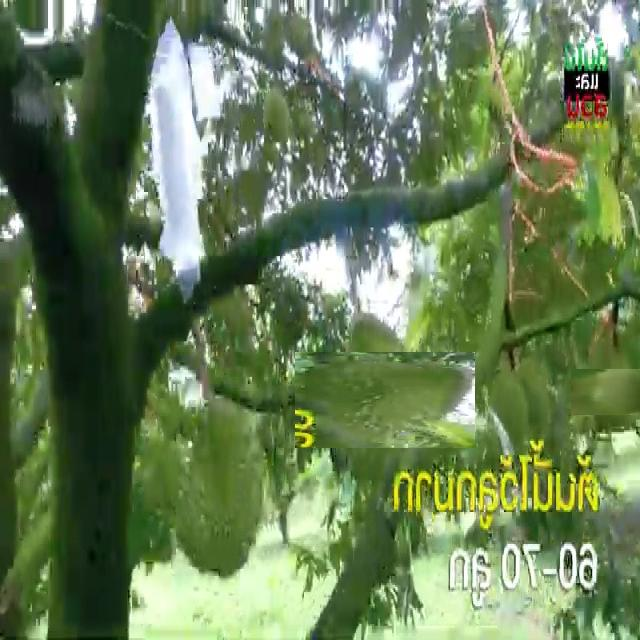durian: (315, 331, 454, 469), (170, 391, 270, 581), (581, 359, 640, 425), (262, 87, 293, 143)
